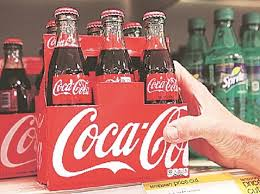coke-glass: (44, 3, 94, 108), (142, 9, 182, 104), (98, 5, 139, 83), (4, 35, 37, 113)
